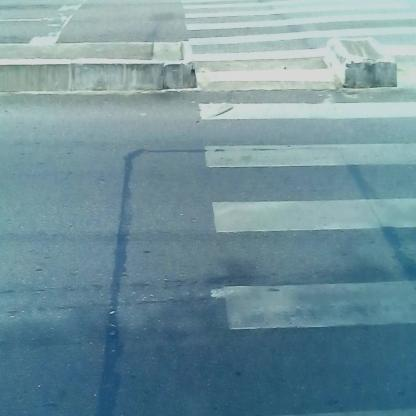crosswalk: (173, 4, 416, 358)
